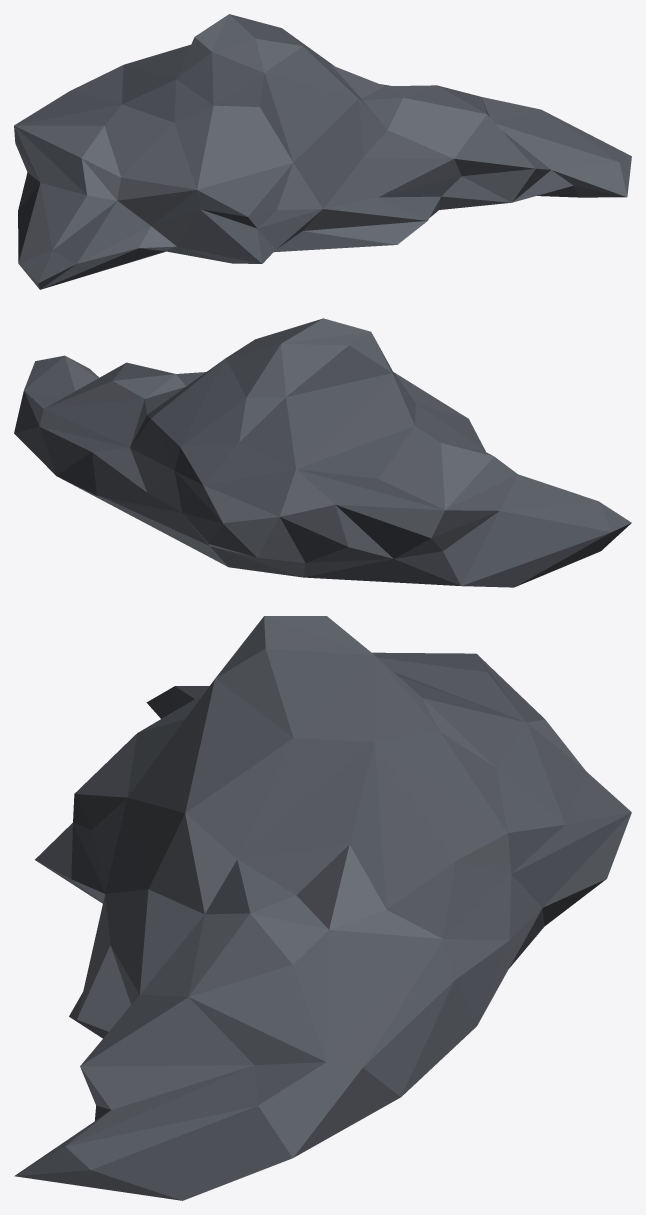
Rendered from WF_LP_HT_Environment_Cloud.002.fbx.
3 views of the same model, one above another, from view 1: azimuth 30°, elevation 25°; view 2: azimuth 150°, elevation 25°; view 3: azimuth 270°, elevation 25° (orthographic). The views are drawn at different scales.
Visible parts, largest first — view 1: WF_LP_HT_Environment_Cloud.002; view 2: WF_LP_HT_Environment_Cloud.002; view 3: WF_LP_HT_Environment_Cloud.002.
Part boxes in pixels (left/top/right/bottom): WF_LP_HT_Environment_Cloud.002: left=14, top=14, right=631, bottom=289; WF_LP_HT_Environment_Cloud.002: left=14, top=318, right=631, bottom=587; WF_LP_HT_Environment_Cloud.002: left=14, top=616, right=631, bottom=1200.
Bounding box in the file's own units: 8.07 × 2.65 × 4.52.
